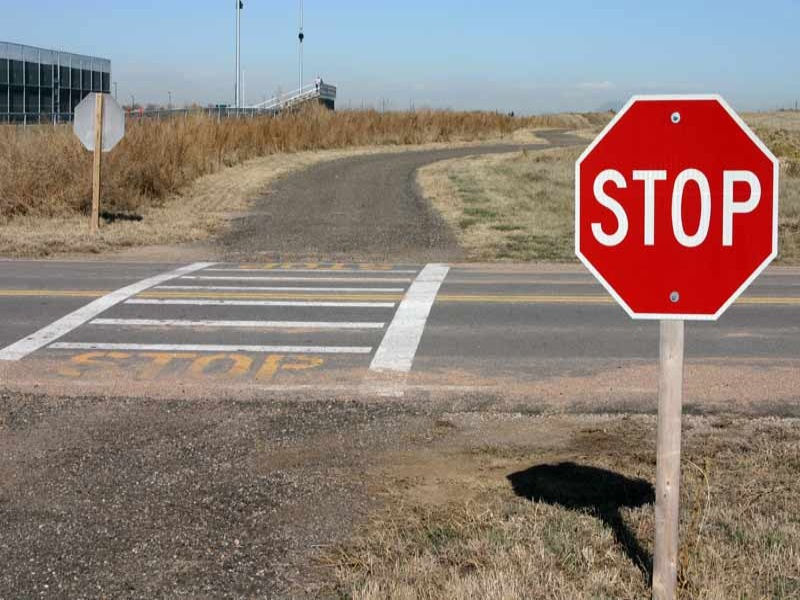stop sign: (570, 90, 782, 327)
